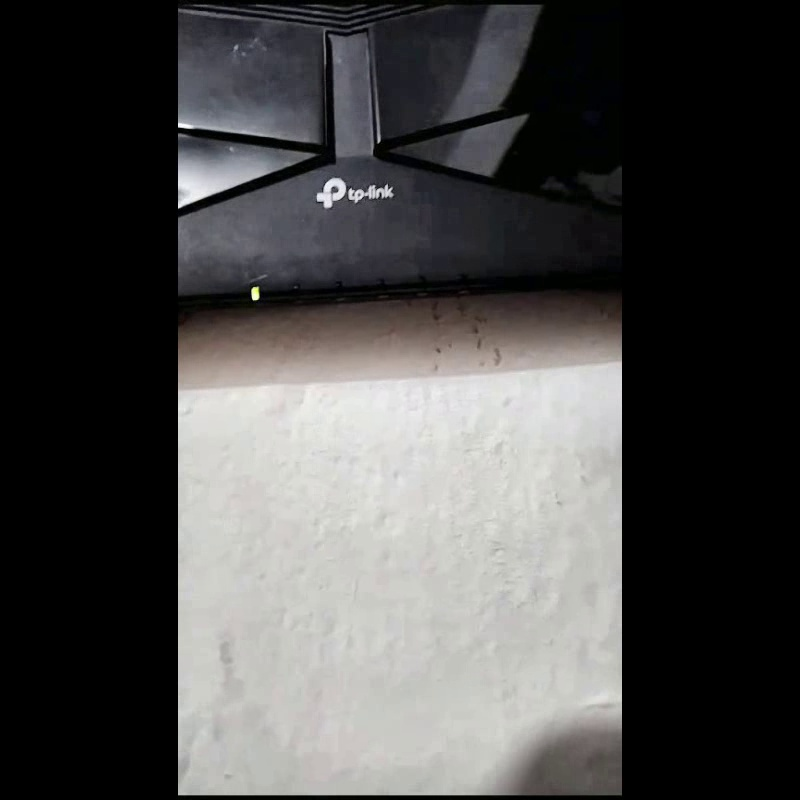off: (290, 280, 301, 300), (416, 273, 426, 293), (458, 272, 468, 291), (377, 276, 387, 295), (333, 278, 342, 295)
on_green: (250, 285, 260, 301)
